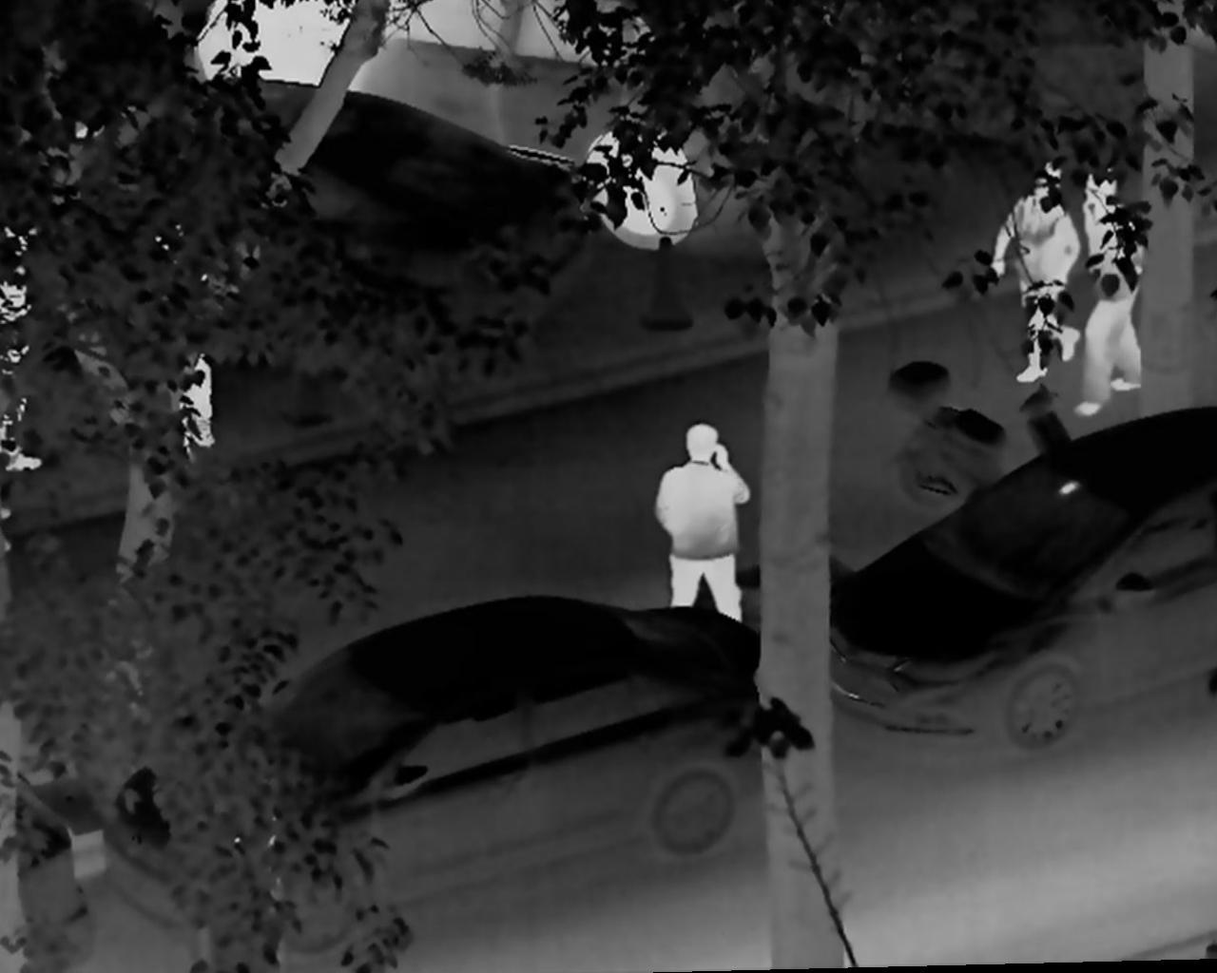person: (1059, 161, 1148, 418), (644, 413, 749, 627), (989, 159, 1084, 386), (153, 214, 222, 462)
